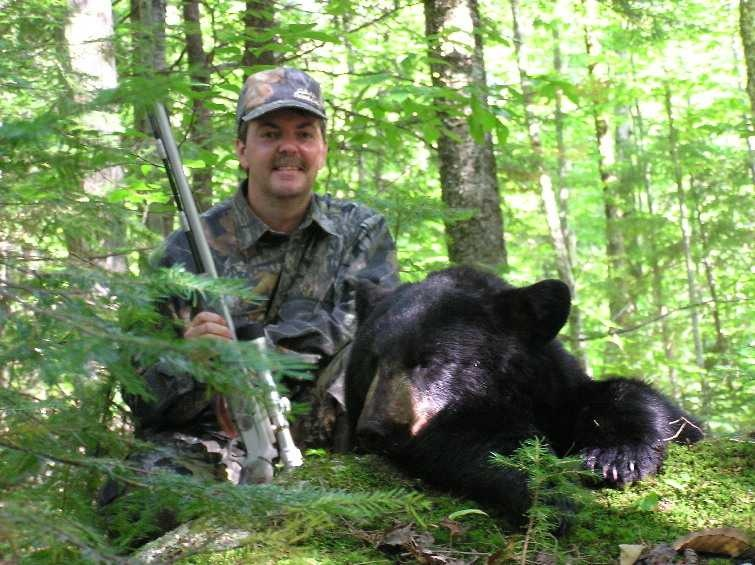bear: (353, 314, 481, 442), (466, 256, 594, 384), (324, 251, 452, 379)
